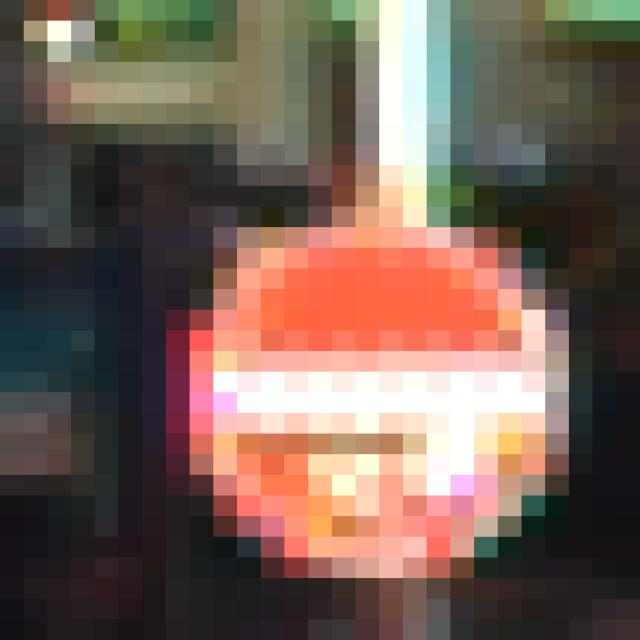No Entry: (143, 125, 523, 517)
